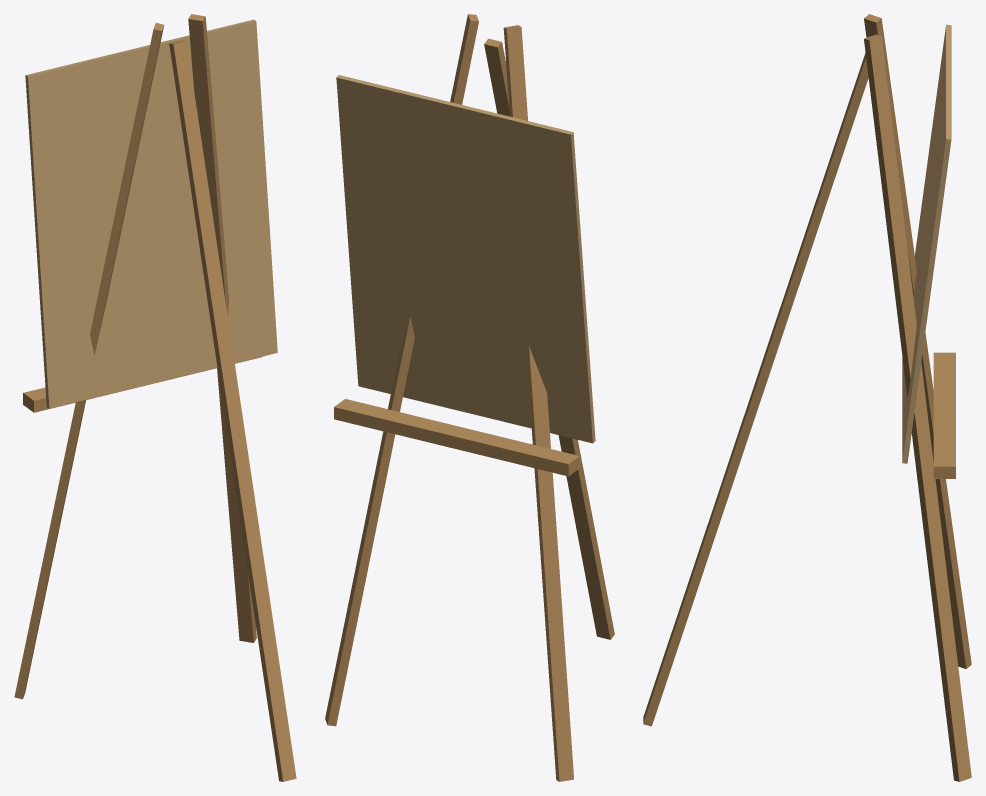
File: school.art.easel.glb
3 views of the same model, side by side, from view 1: azimuth 30°, elevation 25°; view 2: azimuth 150°, elevation 25°; view 3: azimuth 270°, elevation 25° (orthographic). The views are drawn at different scales.
Visible parts, largest first — view 1: main__plywood, main__softwood; view 2: main__plywood, main__softwood; view 3: main__softwood, main__plywood.
Boxes of the visible parts, x1,y1,x2,y2 form: main__plywood: (25,19,277,408); main__softwood: (14,14,296,781); main__plywood: (336,75,595,443); main__softwood: (325,14,614,781); main__softwood: (643,14,971,781); main__plywood: (902,24,951,463).
Size of the model in its own units: 0.6372 by 1.7 by 0.7294.
